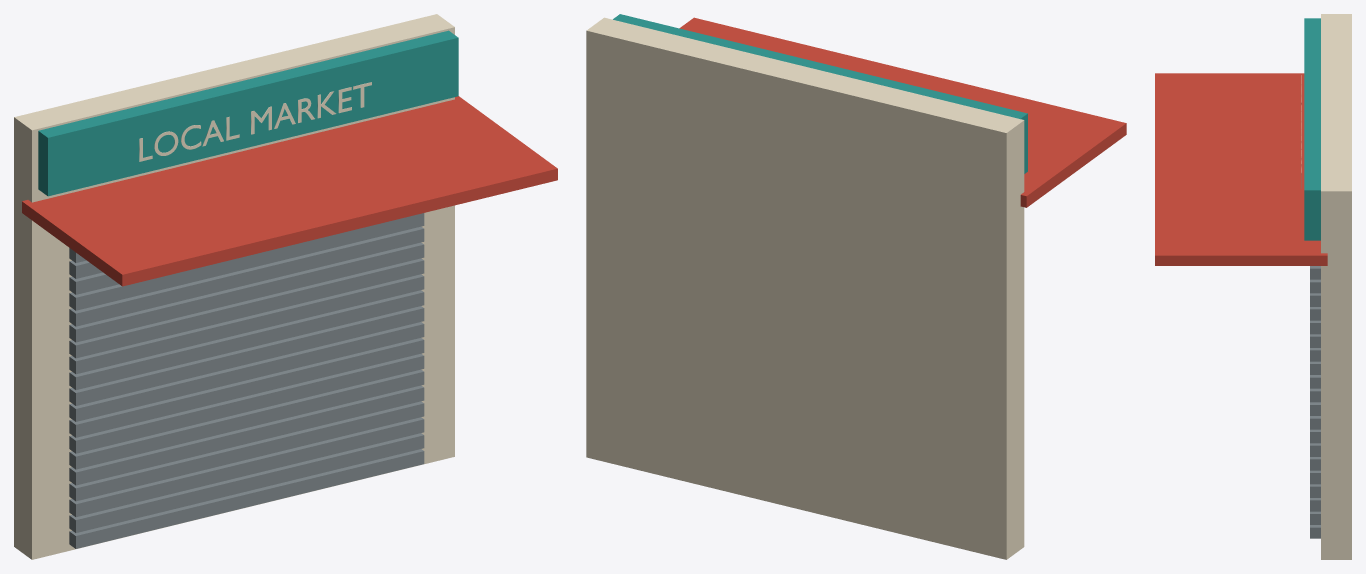
The model's file is market_shopfront.glb.
3 views of the same model, side by side, from view 1: azimuth 30°, elevation 25°; view 2: azimuth 150°, elevation 25°; view 3: azimuth 270°, elevation 25° (orthographic). The views are drawn at different scales.
Parts seen in each view (by area): view 1: market_shopfront_Mesh; view 2: market_shopfront_Mesh; view 3: market_shopfront_Mesh.
Boxes of the visible parts, x1,y1,x2,y2 form: market_shopfront_Mesh: (14,14,557,559); market_shopfront_Mesh: (586,14,1126,559); market_shopfront_Mesh: (1155,14,1351,559).
Size of the model in its own units: 3.5 by 3.3 by 1.6.
